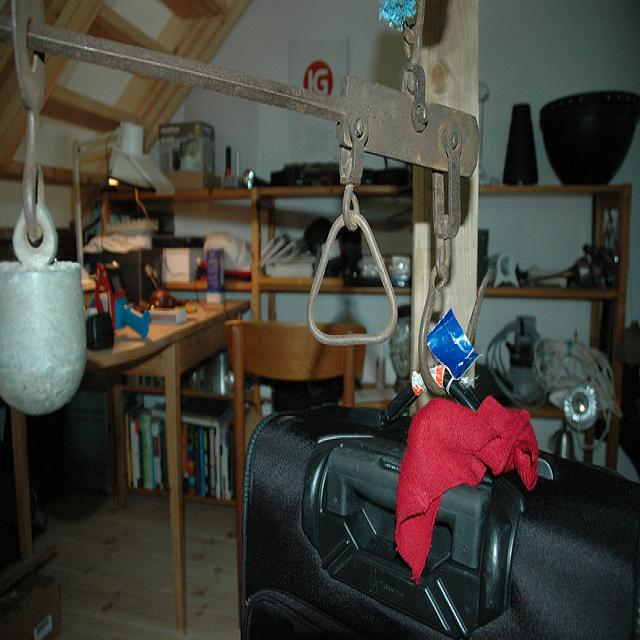chair: (225, 320, 367, 631)
dining table: (9, 288, 253, 639)
